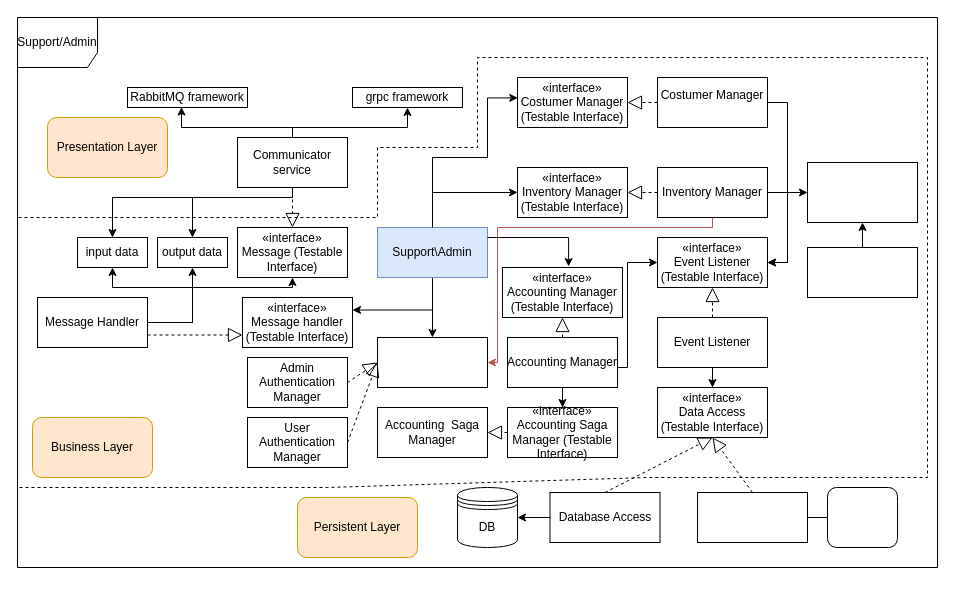
The diagram is 965 pixels wide and 595 high, and some of its shapes have lost their labels. The shapes that lost their labels are listed below. From the top down, each one's centre as x and y in pixels, then its label:
At pixel 862 192: "«interface» Inventory Saga Manager (Testable Interface)".
At pixel 862 272: "Inventory Saga Manager".
At pixel 432 362: "«interface» Authentication Manager".
At pixel 752 517: "File Access".
At pixel 862 517: "File".
